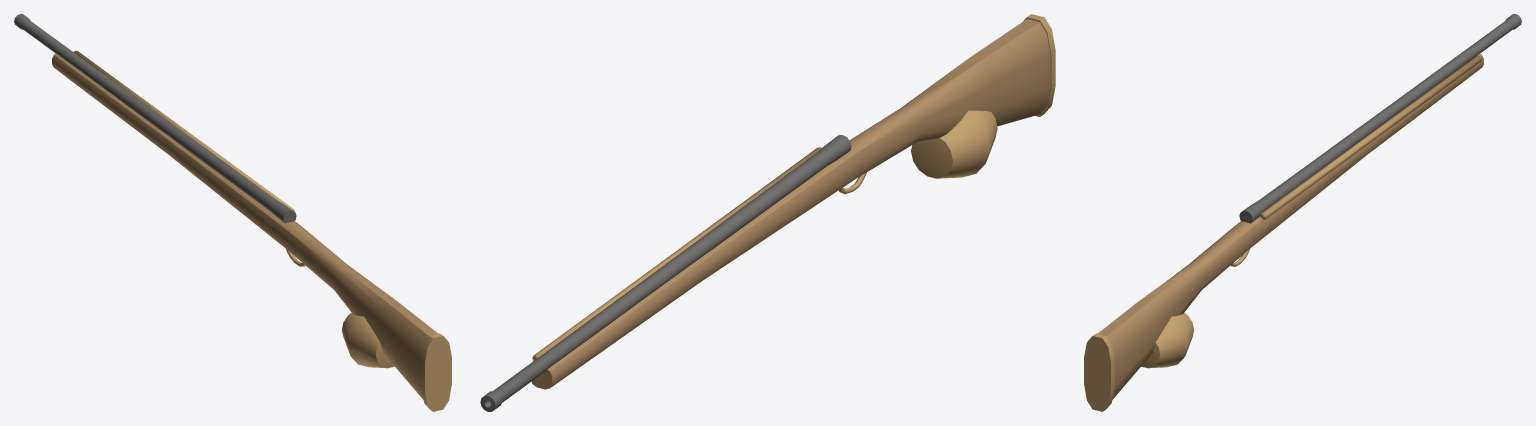
The model's file is air-repeater.glb.
The picture shows the model from 3 angles, left to right: view 1: azimuth 30°, elevation 25°; view 2: azimuth 150°, elevation 25°; view 3: azimuth 330°, elevation 25°; orthographic projection. The views are drawn at different scales.
Visible parts, largest first — view 1: air-repeater; view 2: air-repeater; view 3: air-repeater.
Boxes of the visible parts, left/top/right/bottom form: air-repeater: left=14, top=14, right=451, bottom=411; air-repeater: left=480, top=14, right=1055, bottom=411; air-repeater: left=1084, top=14, right=1521, bottom=411.
Bounding box in the file's own units: 0.2 × 0.3325 × 2.71.
